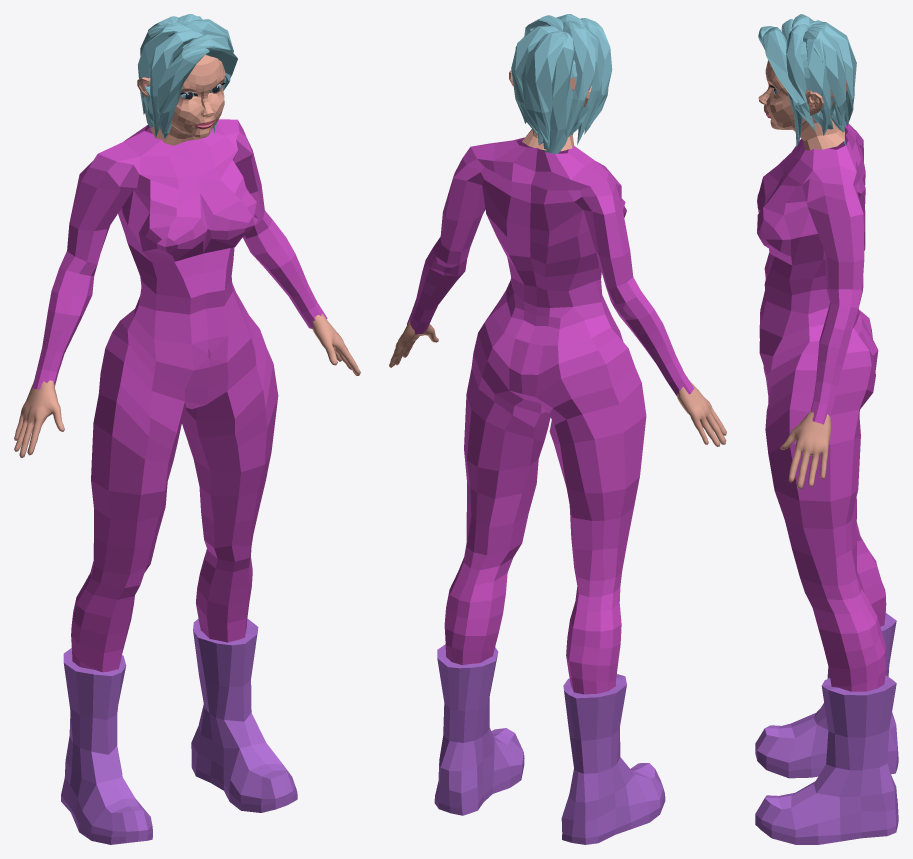
Rendered from 03-LOW_POLY_MISTURADO.fbx.
3 views of the same model, side by side, from view 1: azimuth 30°, elevation 25°; view 2: azimuth 150°, elevation 25°; view 3: azimuth 270°, elevation 25° (orthographic). The views are drawn at different scales.
Visible parts, largest first — view 1: Cylinder.002, CABELO; view 2: Cylinder.002, CABELO; view 3: Cylinder.002, CABELO.
Part boxes in pixels (bbox=[...]): Cylinder.002: bbox=[14, 44, 360, 844]; CABELO: bbox=[138, 14, 237, 138]; Cylinder.002: bbox=[389, 60, 726, 844]; CABELO: bbox=[511, 14, 612, 153]; Cylinder.002: bbox=[755, 41, 898, 844]; CABELO: bbox=[758, 14, 856, 147].
Bounding box in the file's own units: 77.45 × 173 × 29.04.
